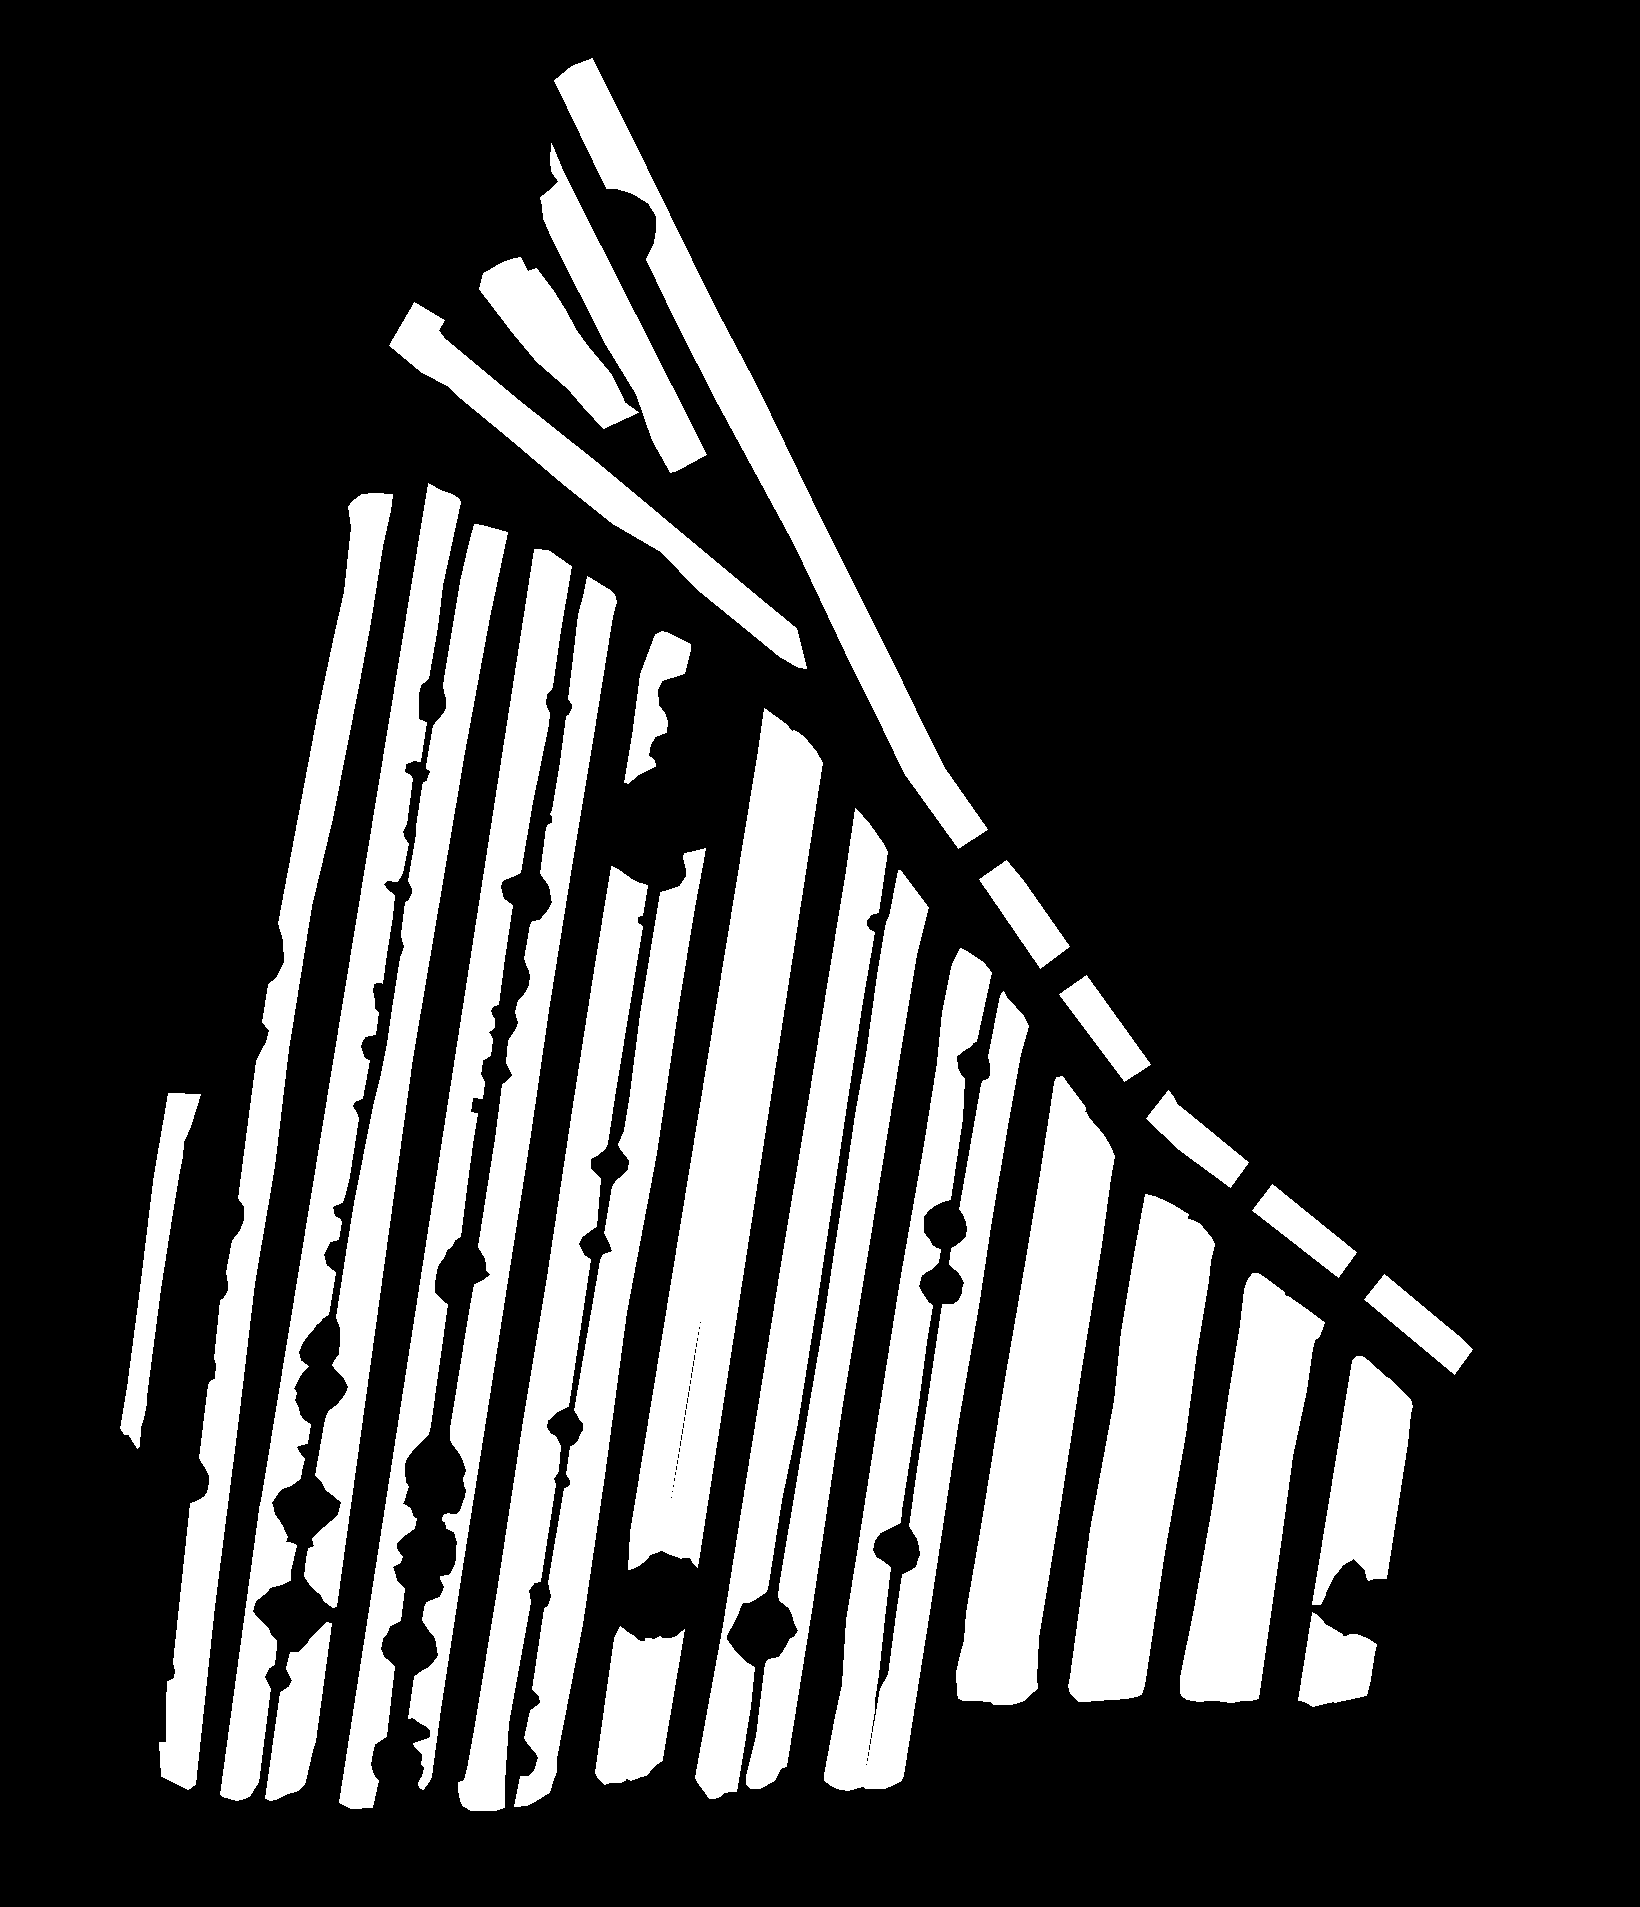parkingspot: (483, 37, 1497, 1464), (263, 530, 542, 1823), (174, 483, 436, 1818), (555, 58, 986, 848), (380, 603, 659, 1823), (159, 493, 393, 1789), (339, 550, 571, 1808), (524, 666, 766, 1815), (409, 576, 616, 1789), (634, 751, 865, 1802), (303, 524, 508, 1607), (225, 430, 819, 799), (104, 778, 298, 1842), (260, 483, 461, 1506), (761, 885, 980, 1808), (514, 848, 706, 1806), (457, 866, 647, 1810), (746, 871, 928, 1789), (389, 302, 806, 668), (415, 246, 801, 628), (628, 709, 793, 1570), (891, 1009, 1066, 1815), (824, 949, 991, 1790), (722, 808, 887, 1633), (662, 730, 822, 1566), (861, 991, 1028, 1789), (955, 1077, 1085, 1701), (1022, 1143, 1153, 1711), (990, 1112, 1114, 1704), (1126, 1231, 1262, 1716), (157, 1781, 952, 1858), (1067, 1193, 1187, 1701), (540, 143, 706, 472), (1105, 1218, 1213, 1699), (1244, 1304, 1371, 1716), (1179, 1273, 1285, 1701), (1220, 1296, 1324, 1703), (144, 782, 248, 1112), (1442, 1438, 1522, 1826), (931, 1777, 1458, 1832), (1358, 1386, 1445, 1712), (120, 1093, 200, 1448), (942, 1690, 1410, 1750), (479, 256, 638, 428), (221, 1502, 295, 1800), (1312, 1356, 1385, 1604), (264, 1622, 331, 1800), (1355, 1377, 1411, 1579), (1364, 1275, 1471, 1373), (694, 1630, 754, 1798), (1145, 1090, 1247, 1187), (625, 631, 689, 783), (1059, 975, 1150, 1082), (980, 859, 1069, 968), (1252, 1184, 1356, 1276), (626, 1630, 685, 1781), (595, 1626, 646, 1784), (1298, 1612, 1342, 1706), (1333, 1635, 1376, 1703)
